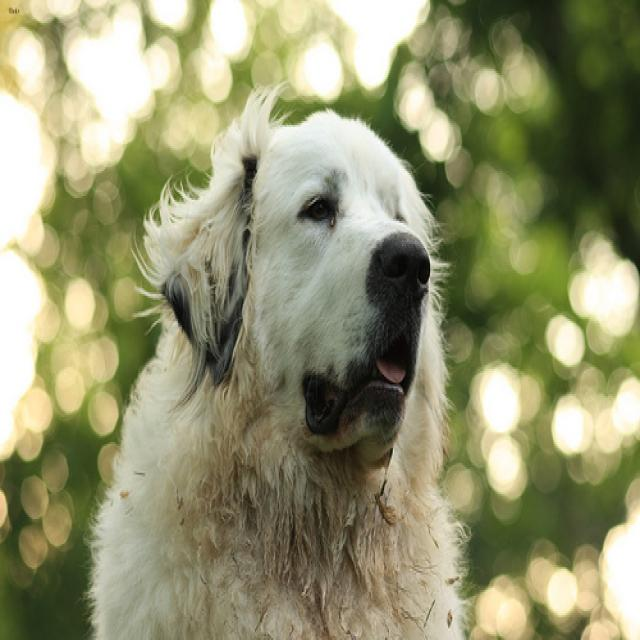dog-great_pyrenees: (83, 69, 484, 636)
